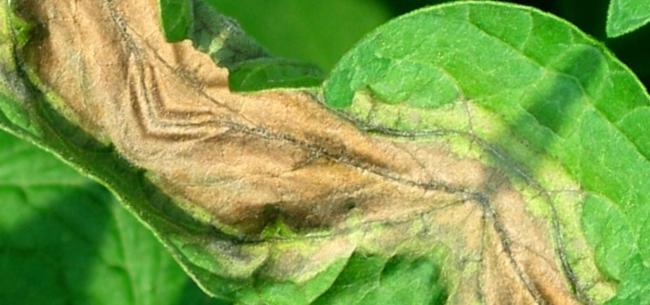Tomato leaf late blight: (19, 0, 602, 305)
